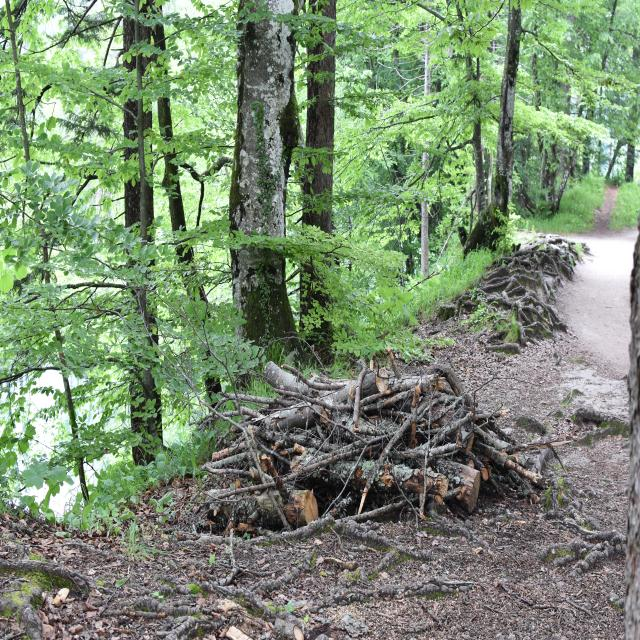restos de madeira: (357, 408, 418, 511), (238, 418, 286, 528), (344, 362, 424, 411), (444, 395, 517, 447), (286, 441, 376, 481), (476, 440, 543, 491), (260, 384, 372, 411), (370, 414, 417, 473), (302, 416, 385, 447), (282, 365, 356, 394), (418, 464, 456, 518), (353, 496, 419, 526), (443, 463, 480, 514), (278, 486, 320, 526), (421, 374, 432, 520), (384, 466, 424, 500), (262, 361, 301, 395), (220, 390, 281, 410), (207, 448, 262, 470), (351, 363, 368, 430), (211, 481, 276, 498), (433, 366, 461, 398), (510, 438, 574, 452), (426, 442, 463, 461), (321, 494, 356, 514), (464, 433, 474, 455)
